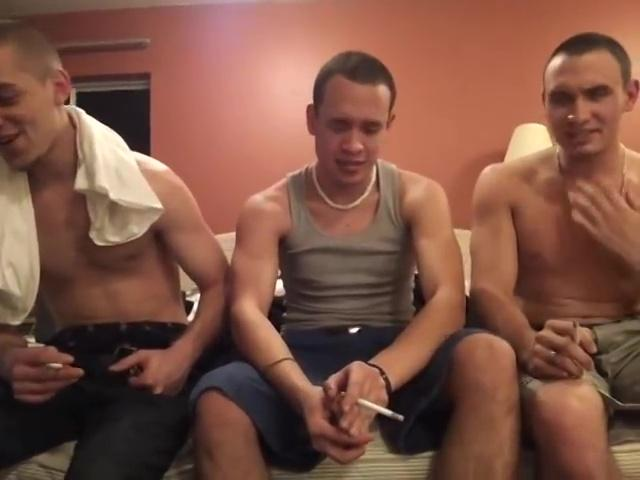cigarette: (354, 392, 407, 422), (569, 317, 582, 343), (46, 363, 70, 372)
